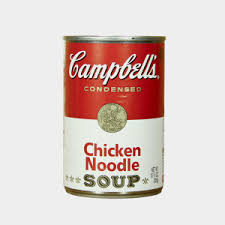can: (60, 32, 170, 201)
